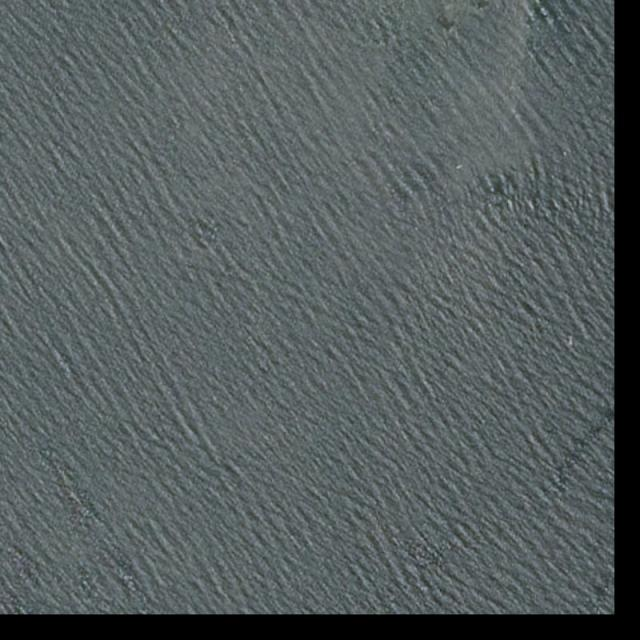ship: (453, 162, 466, 172), (566, 334, 574, 350)
